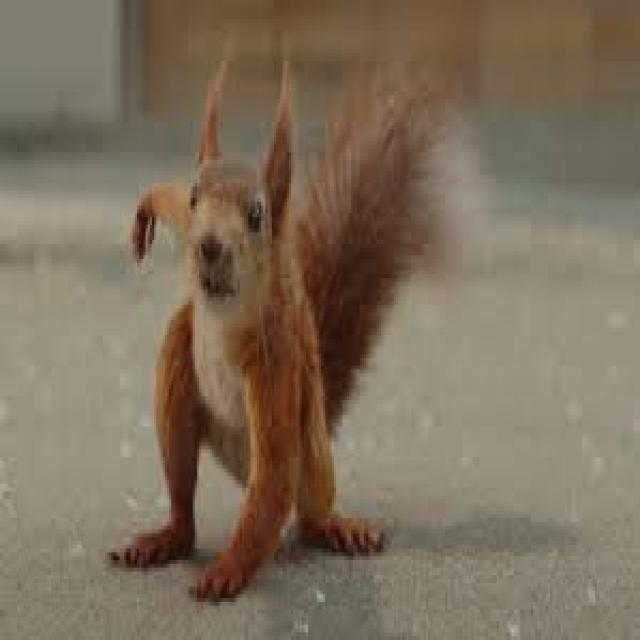Squirrel: (119, 55, 404, 581)
